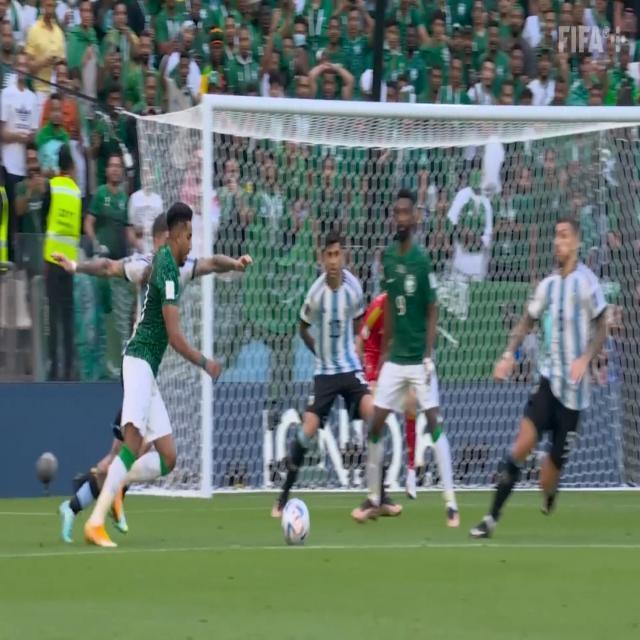football: (275, 499, 328, 553)
